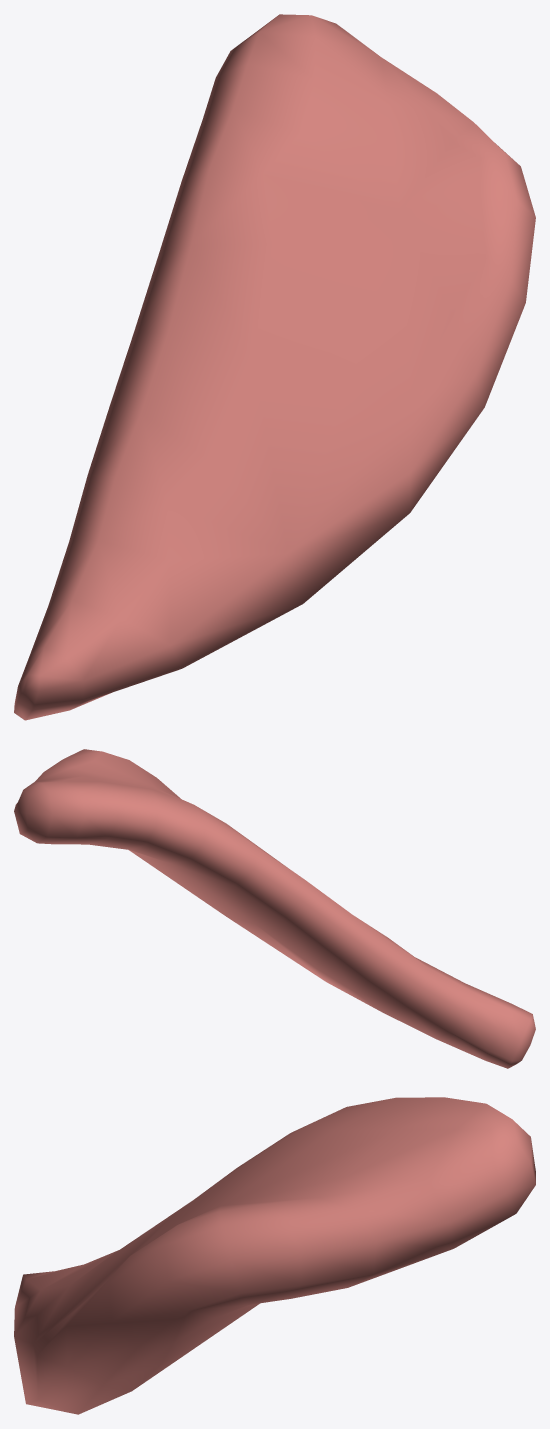
3 renders of one model, top to bottom at view 1: azimuth 30°, elevation 25°; view 2: azimuth 150°, elevation 25°; view 3: azimuth 270°, elevation 25°, orthographic. The views are drawn at different scales.
Visible parts, largest first — view 1: ZA_cc56eed238a8b90d; view 2: ZA_cc56eed238a8b90d; view 3: ZA_cc56eed238a8b90d.
Part boxes in pixels (x1,y1,x2,y2): ZA_cc56eed238a8b90d: (14, 14, 535, 720); ZA_cc56eed238a8b90d: (14, 749, 535, 1068); ZA_cc56eed238a8b90d: (14, 1097, 535, 1414).
Bounding box in the file's own units: 0.0034 × 0.00241 × 0.00246.
